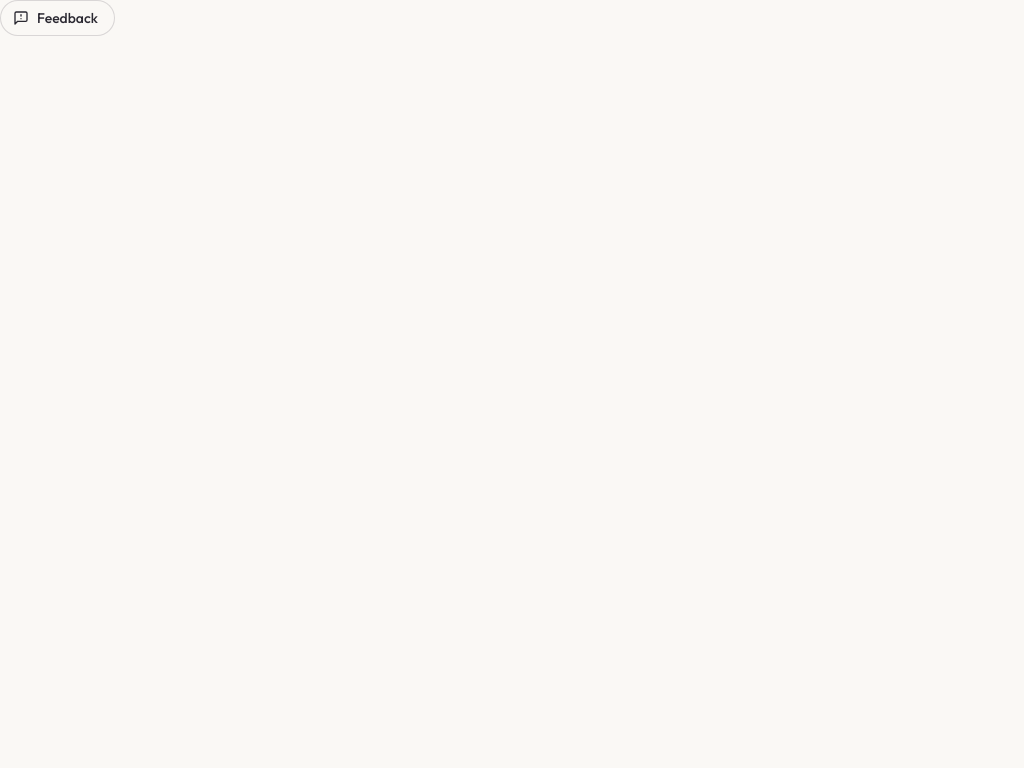
Course Feedback placement › portals into the top bar slot: in flow, not fixed, with its accessible name and label
This screenshot has width=1024, height=768.
Click the button "Feedback" at (58, 18), box [0, 0, 115, 36]
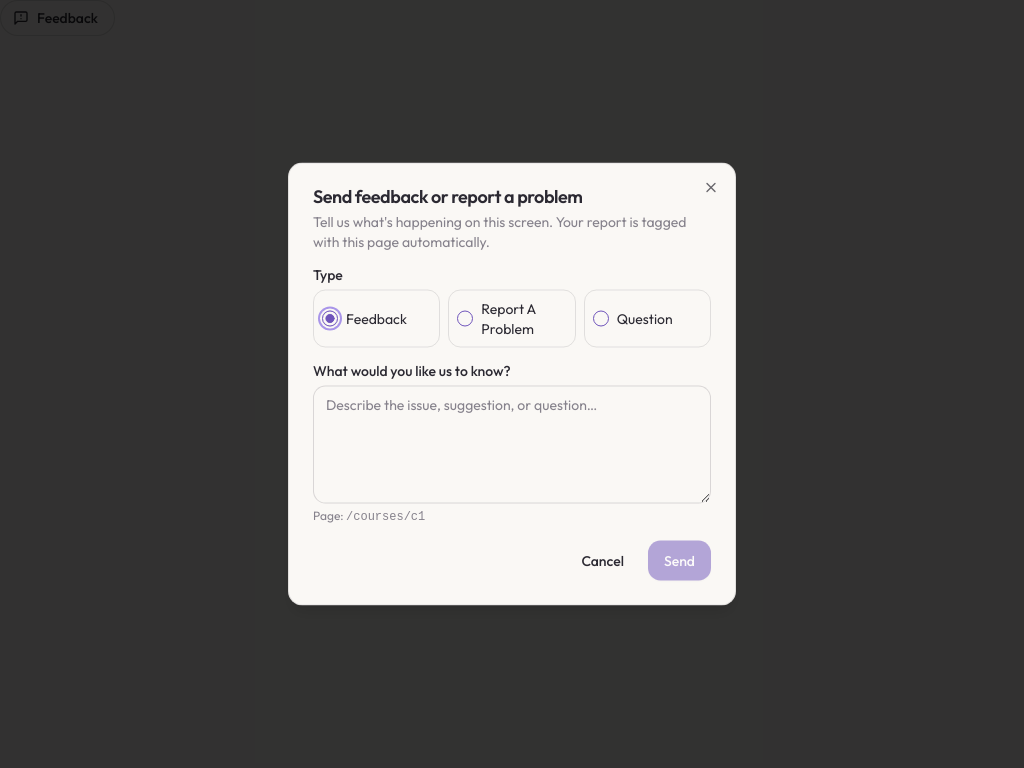
expect the heading "Send feedback or report a problem" is shown: met, box [313, 184, 582, 208]
